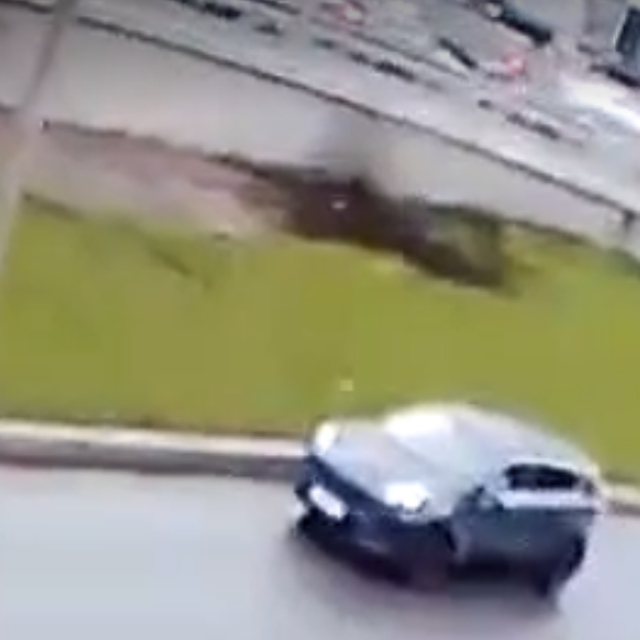car: (295, 401, 602, 593)
